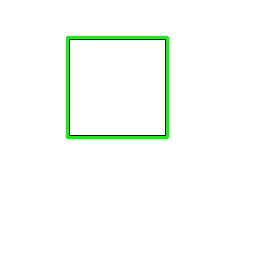line_segment: (66, 36, 169, 139)
